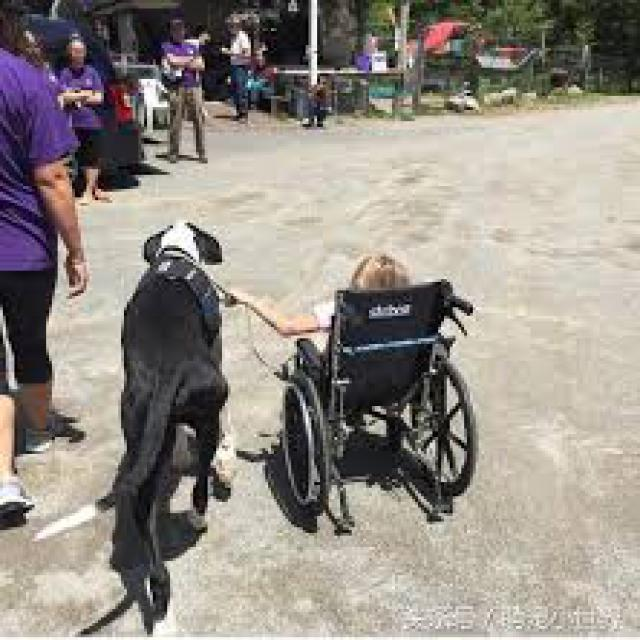wheelchairs: (268, 273, 493, 519)
